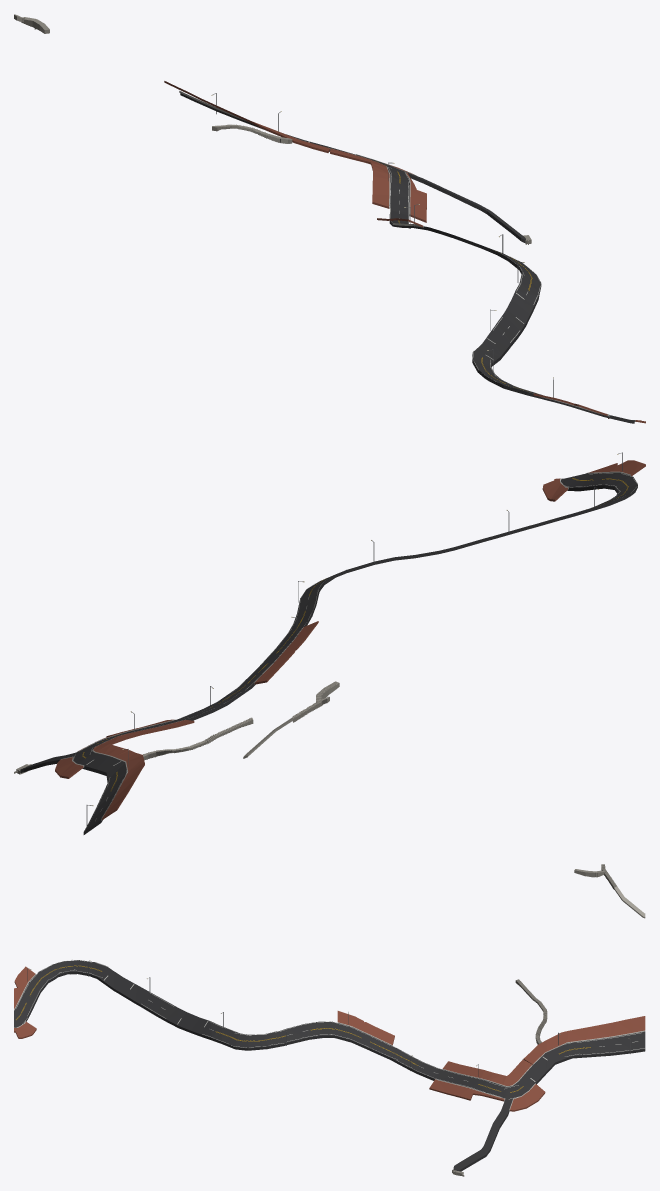
3 views of the same model, one above another, from view 1: azimuth 30°, elevation 25°; view 2: azimuth 150°, elevation 25°; view 3: azimuth 270°, elevation 25° (orthographic). The views are drawn at different scales.
Bounding box in the file's own units: 153 × 88.13 × 292.
